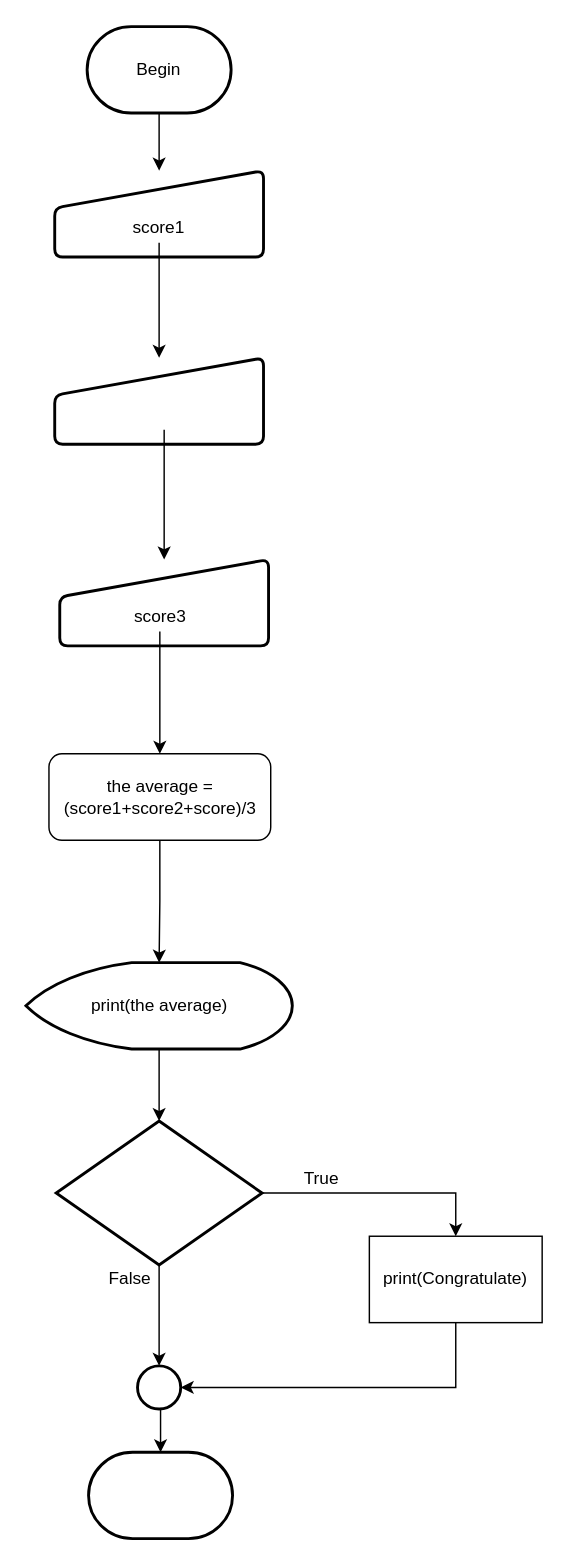
The diagram is 567 pixels wide and 1564 high, and some of its shapes have lost their labels. The shapes that lost their labels are listed below. From the top down, each one's centre as x and y in pixels, then its label:
At point (158, 400): "score2".
At point (158, 1192): "the average > 95".
At point (159, 1494): "End".
